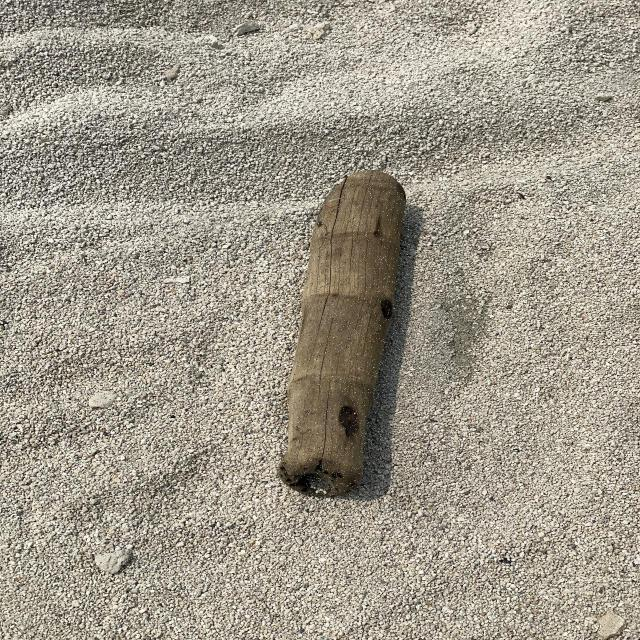wood_waste: (276, 169, 411, 499)
